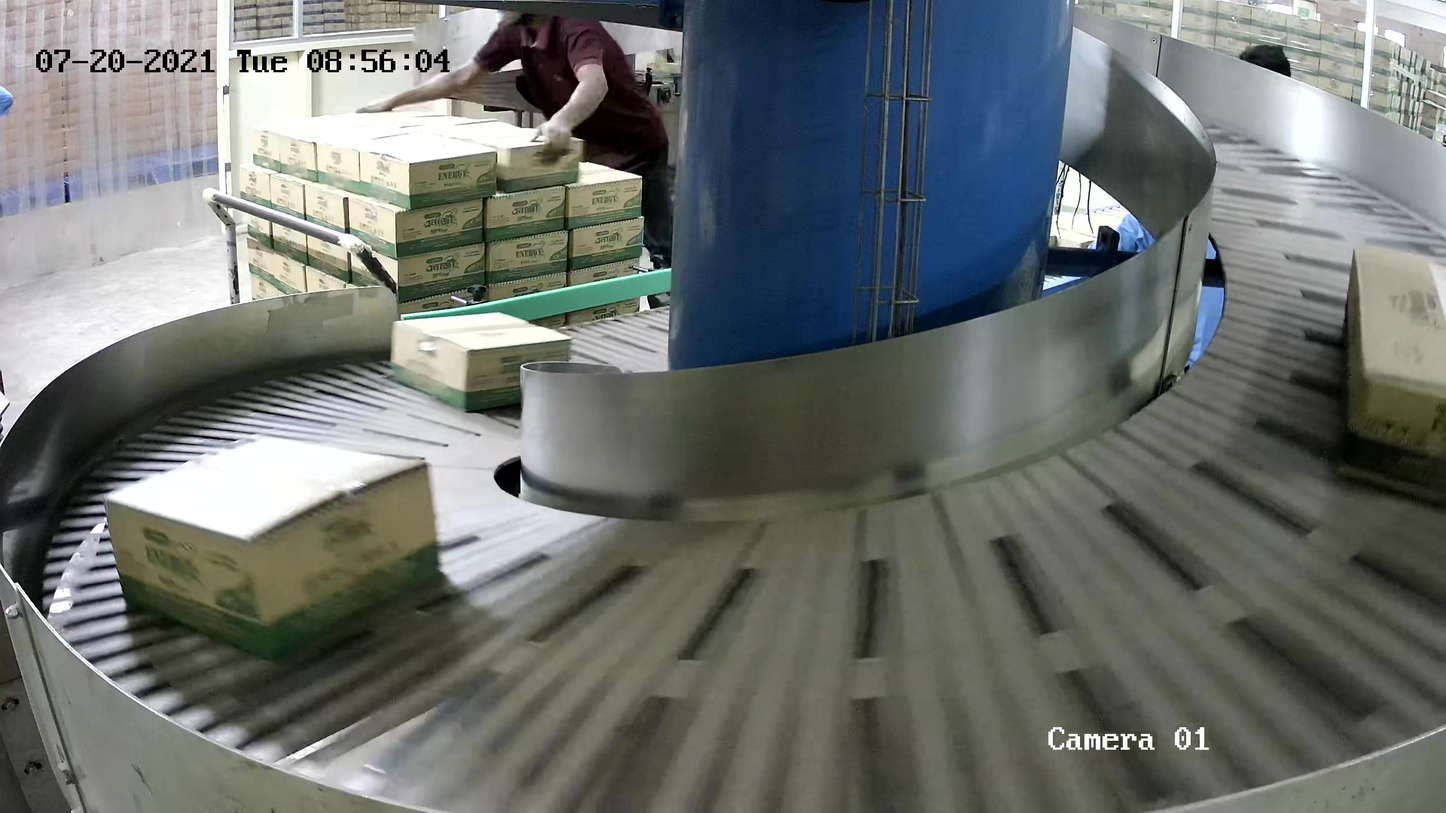Box: (100, 431, 443, 663), (1335, 243, 1446, 510), (388, 309, 574, 414)
